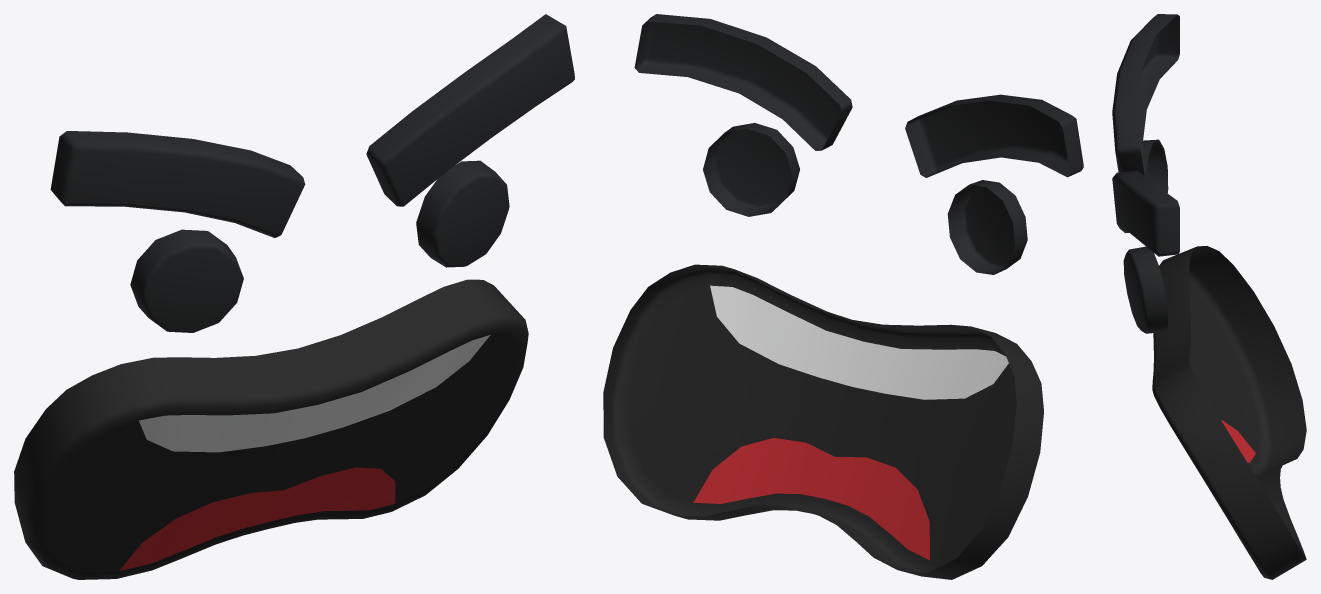
Rendered from Male_Emotion_Shout_01.glb.
The picture shows the model from 3 angles, left to right: view 1: azimuth 30°, elevation 25°; view 2: azimuth 150°, elevation 25°; view 3: azimuth 270°, elevation 25°; orthographic projection. The views are drawn at different scales.
Parts seen in each view (by area): view 1: Male_Emotion_Shout_01; view 2: Male_Emotion_Shout_01; view 3: Male_Emotion_Shout_01.
Boxes of the visible parts, left/top/right/bottom form: Male_Emotion_Shout_01: left=14, top=14, right=574, bottom=579; Male_Emotion_Shout_01: left=603, top=14, right=1083, bottom=579; Male_Emotion_Shout_01: left=1112, top=14, right=1306, bottom=579.
Bounding box in the file's own units: 0.238 × 0.2268 × 0.0976.
1 material, 1 textured.
